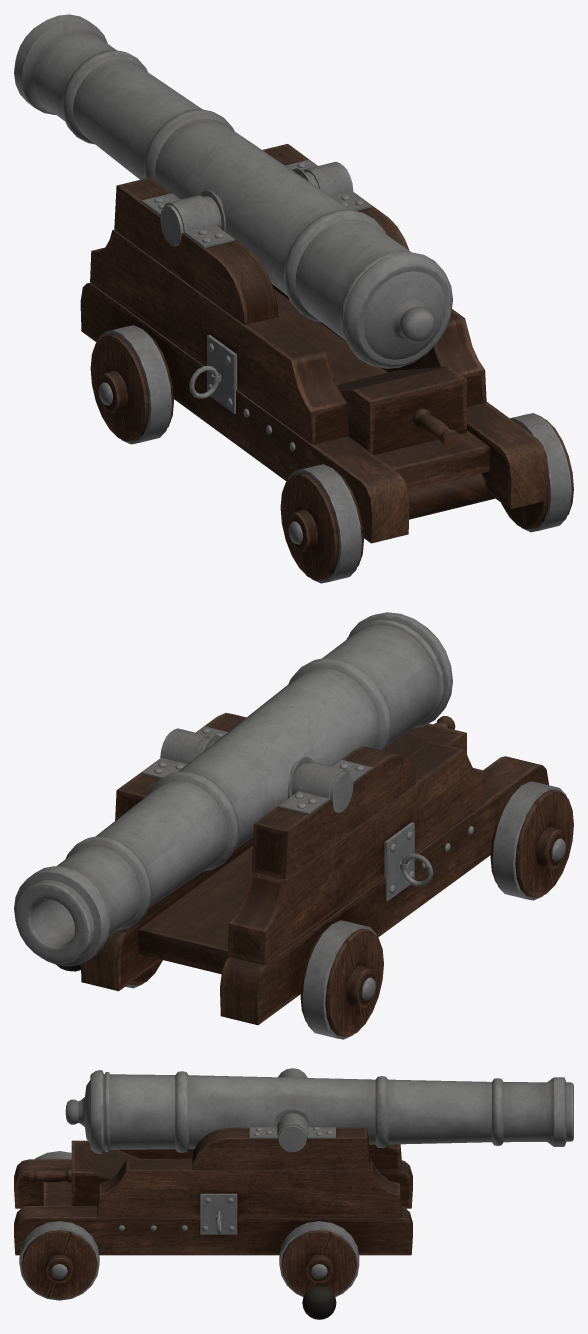
Rendered from ship_cannon.glb.
3 renders of one model, top to bottom at view 1: azimuth 30°, elevation 25°; view 2: azimuth 150°, elevation 25°; view 3: azimuth 270°, elevation 25°, orthographic. The views are drawn at different scales.
Visible parts, largest first — view 1: korpus, cannon, koleso, detal, kreplenie, kolco; view 2: korpus, cannon, koleso, kreplenie, kolco, detal, boltiki; view 3: korpus, cannon, koleso, detal, kolco, kreplenie, yadro, boltiki.
Part boxes in pixels (x1=…): korpus: x1=80, y1=144, x2=548, y2=543; cannon: x1=14, y1=14, x2=452, y2=368; koleso: x1=90, y1=325, x2=573, y2=583; detal: x1=337, y1=366, x2=466, y2=454; kreplenie: x1=141, y1=160, x2=371, y2=247; kolco: x1=189, y1=335, x2=237, y2=413; korpus: x1=81, y1=713, x2=548, y2=1025; cannon: x1=14, y1=612, x2=452, y2=966; koleso: x1=125, y1=781, x2=573, y2=1039; kreplenie: x1=141, y1=726, x2=371, y2=814; kolco: x1=384, y1=822, x2=433, y2=901; detal: x1=384, y1=716, x2=466, y2=756; boltiki: x1=154, y1=728, x2=473, y2=893; korpus: x1=14, y1=1127, x2=412, y2=1255; cannon: x1=65, y1=1070, x2=573, y2=1154; koleso: x1=19, y1=1151, x2=359, y2=1300; detal: x1=29, y1=1140, x2=138, y2=1205; kolco: x1=200, y1=1193, x2=237, y2=1234; kreplenie: x1=249, y1=1068, x2=335, y2=1138; yadro: x1=302, y1=1286, x2=336, y2=1319; boltiki: x1=118, y1=1126, x2=332, y2=1231.
Bounding box in the file's own units: 0.9079 × 0.7479 × 2.
Materials: 1 (1 with a texture image).
